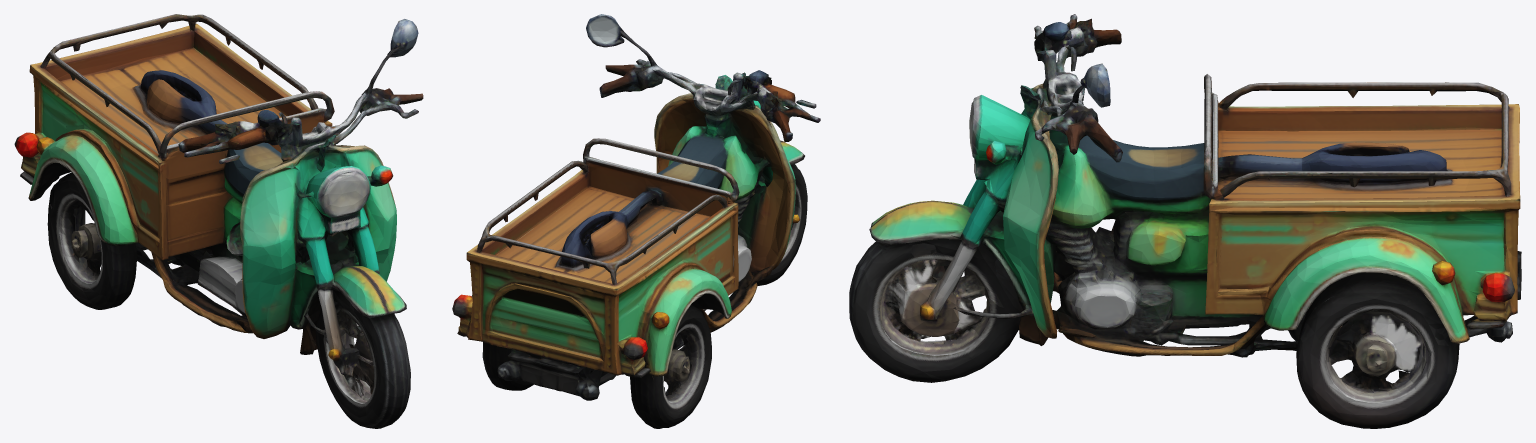
The model's file is tricycle.glb.
3 views of the same model, side by side, from view 1: azimuth 30°, elevation 25°; view 2: azimuth 150°, elevation 25°; view 3: azimuth 270°, elevation 25° (orthographic). The views are drawn at different scales.
Parts seen in each view (by area): view 1: world; view 2: world; view 3: world.
Part boxes in pixels (x1,y1,x2,y2): world: (14, 14, 423, 428); world: (452, 14, 820, 428); world: (849, 14, 1521, 428).
Size of the model in its own units: 0.4972 by 0.6191 by 0.9999.
Materials: 1 (1 with a texture image).
